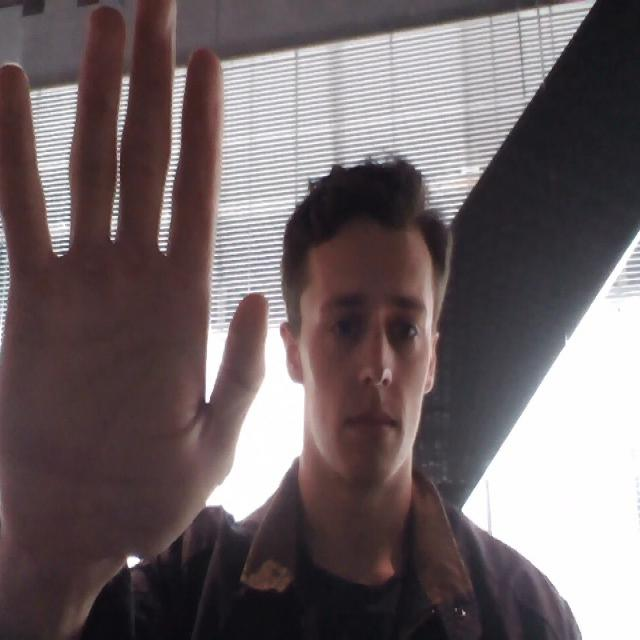backward: (2, 0, 272, 558)
